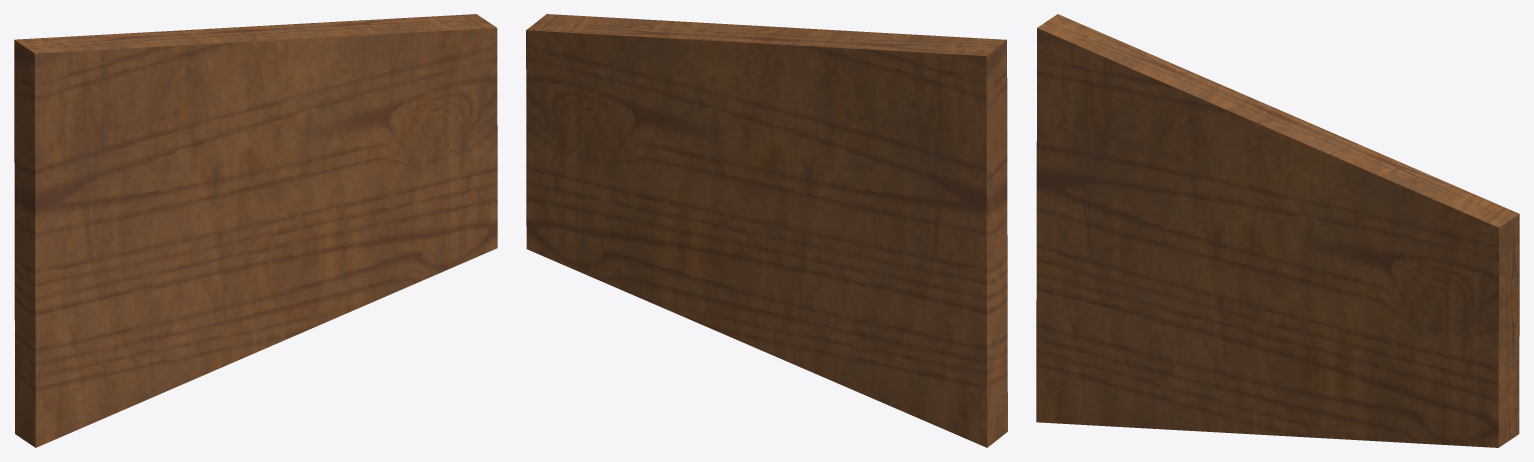
Rendered from WoodDetails.glb.
3 views of the same model, side by side, from view 1: azimuth 30°, elevation 25°; view 2: azimuth 150°, elevation 25°; view 3: azimuth 330°, elevation 25° (orthographic).
Visible parts, largest first — view 1: WoodDetails; view 2: WoodDetails; view 3: WoodDetails.
Boxes of the visible parts, bbox=[...] form: WoodDetails: bbox=[14, 14, 497, 447]; WoodDetails: bbox=[526, 14, 1007, 447]; WoodDetails: bbox=[1036, 14, 1519, 447].
Size of the model in its own units: 0.9371 by 0.7654 by 0.0757.
Materials: 1 (1 with a texture image).
